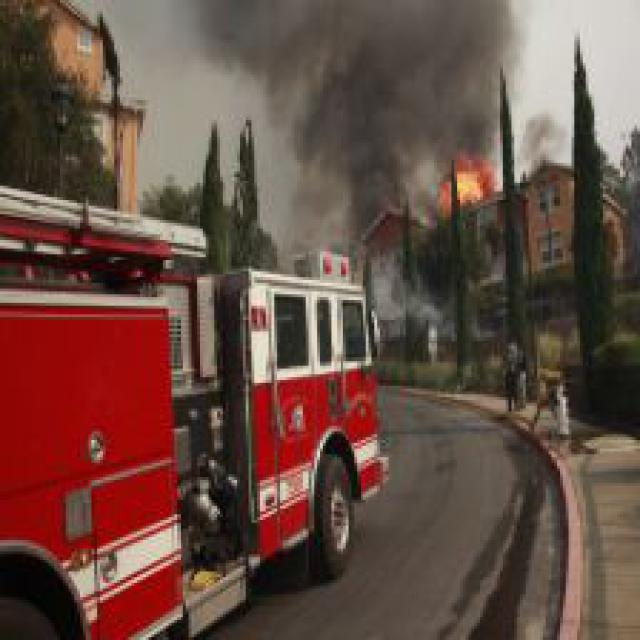fire: (426, 140, 497, 220)
